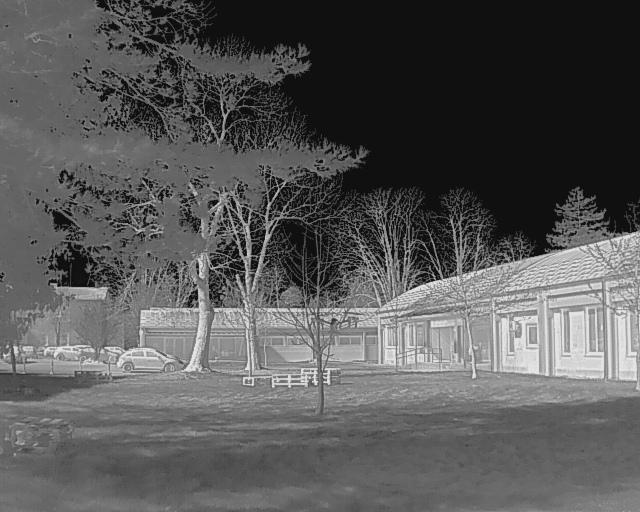drone: (295, 303, 370, 340)
